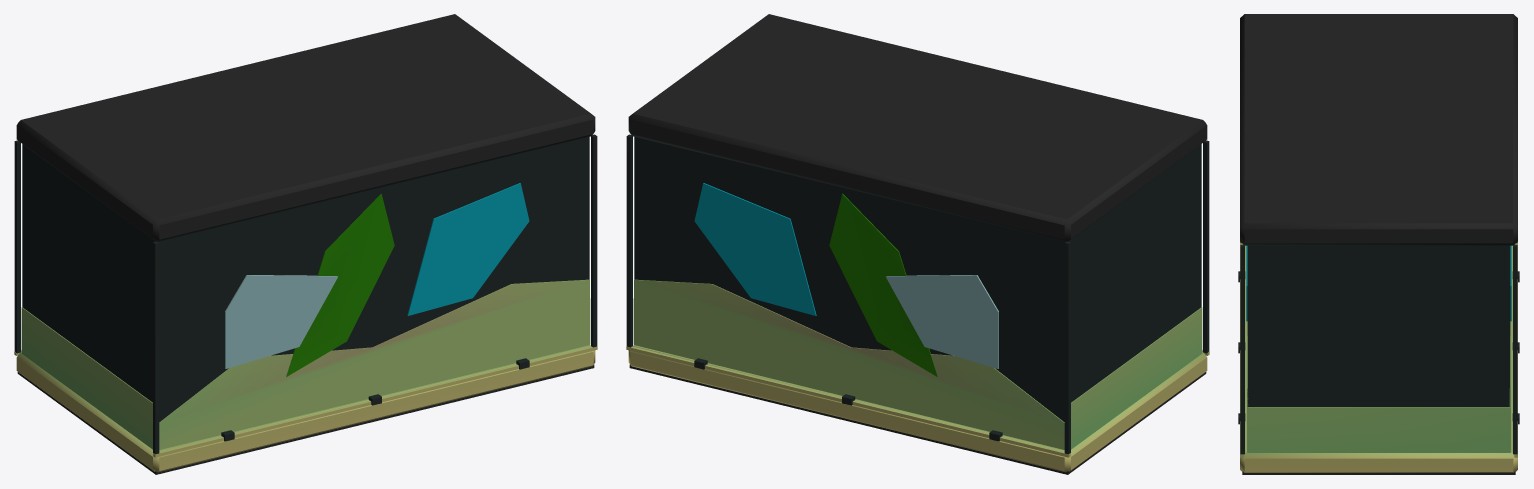
3 renders of one model, left to right at view 1: azimuth 30°, elevation 25°; view 2: azimuth 150°, elevation 25°; view 3: azimuth 270°, elevation 25°, orthographic.
Parts seen in each view (by area): view 1: black_lid, dark_backing, olive_bank, floor, teal_side, green_silhouette, grey_side, olive_end, raised_rim, bottom_edge, corner_uprights.001, corner_uprights.002 (+1 smaller); view 2: black_lid, dark_backing, olive_bank.001, floor, teal_side.001, green_silhouette.001, grey_side.001, olive_end, raised_rim.001, bottom_edge, corner_uprights.003, corner_uprights.004 (+1 smaller); view 3: black_lid, dark_backing, olive_end.001, floor, corner_uprights.002, corner_uprights.004, bottom_edge.
Boxes of the visible parts, x1,y1,x2,y2 form: black_lid: (16, 14, 595, 241); dark_backing: (22, 137, 589, 421); olive_bank: (159, 279, 589, 449); floor: (16, 345, 595, 472); teal_side: (407, 183, 529, 315); green_silhouette: (286, 193, 394, 376); grey_side: (225, 275, 338, 368); olive_end: (21, 307, 152, 449); raised_rim: (153, 346, 597, 457); bottom_edge: (17, 365, 594, 474); corner_uprights.001: (153, 241, 159, 454); corner_uprights.002: (591, 134, 597, 347); black_lid: (628, 14, 1207, 241); dark_backing: (634, 137, 1201, 421); olive_bank.001: (634, 279, 1064, 449); floor: (628, 345, 1207, 472); teal_side.001: (694, 183, 816, 315); green_silhouette.001: (829, 193, 937, 376); grey_side.001: (885, 275, 998, 368); olive_end: (1071, 307, 1202, 449); raised_rim.001: (626, 346, 1070, 457); bottom_edge: (629, 365, 1206, 474); corner_uprights.003: (1064, 241, 1070, 454); corner_uprights.004: (626, 134, 632, 347); black_lid: (1240, 14, 1517, 245); dark_backing: (1247, 245, 1510, 406); olive_end.001: (1247, 407, 1510, 452); floor: (1240, 245, 1517, 472); corner_uprights.002: (1240, 244, 1244, 454); corner_uprights.004: (1513, 244, 1517, 454); bottom_edge: (1242, 471, 1515, 474).
Bounding box in the file's own units: 0.998 × 0.5477 × 0.557.
